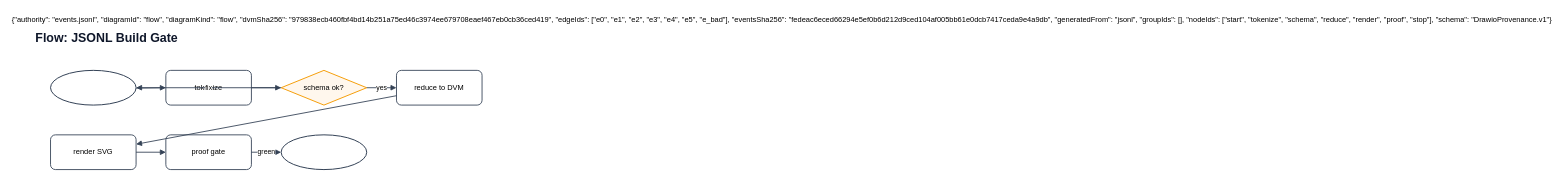
The diagram is 1562 pixels wide and 180 high, and some of its shapes have lost their labels. Each missing label, with the box of its shape:
append JSONL: (50, 70, 136, 105)
publish artifact: (280, 134, 367, 170)
